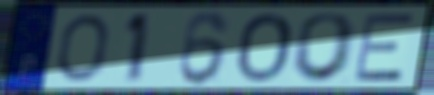1: (122, 12, 154, 85)
6: (176, 8, 231, 88)
E: (352, 11, 416, 84)
O: (289, 11, 361, 85), (234, 11, 295, 84), (55, 12, 111, 84)
